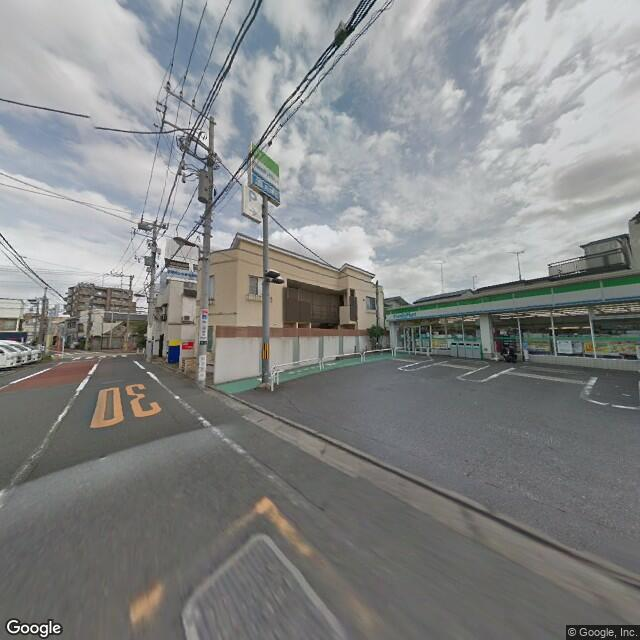family_mart: (385, 271, 637, 326), (249, 142, 280, 195)
